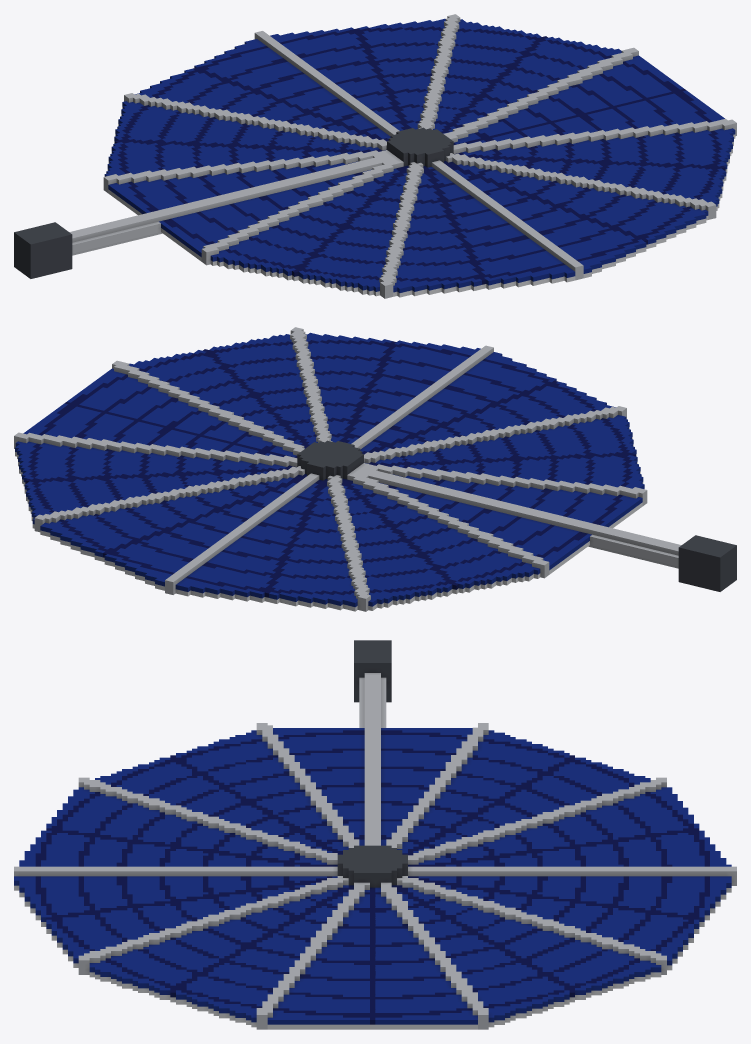
Rendered from solar_ultraflex.glb.
3 renders of one model, top to bottom at view 1: azimuth 30°, elevation 25°; view 2: azimuth 150°, elevation 25°; view 3: azimuth 270°, elevation 25°, orthographic. The views are drawn at different scales.
Parts seen in each view (by area): view 1: solar_ultraflex; view 2: solar_ultraflex; view 3: solar_ultraflex.
Boxes of the visible parts, x1,y1,x2,y2 form: solar_ultraflex: (14,14,736,298); solar_ultraflex: (14,327,736,611); solar_ultraflex: (14,640,736,1029).
Bounding box in the file's own units: 2.5 × 0.125 × 2.09.
